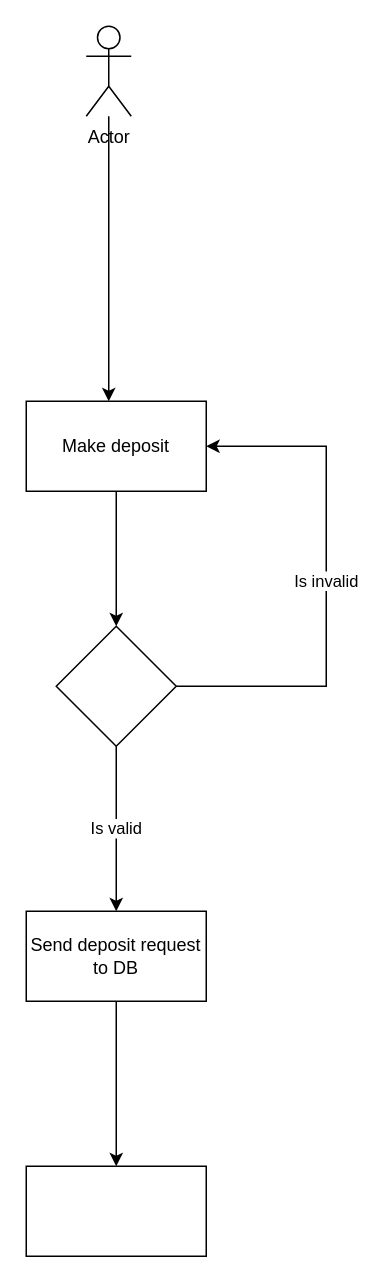
Some shapes in this 384 by 1283 pixel diagram are drawn without their labels. Here are the shapes that lost their labels. From the top down, the box of each, then its label:
(55, 625, 176, 746): Validate card
(25, 1165, 206, 1256): Update DB
